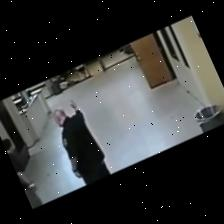person: (54, 101, 110, 184), (3, 139, 42, 208)
